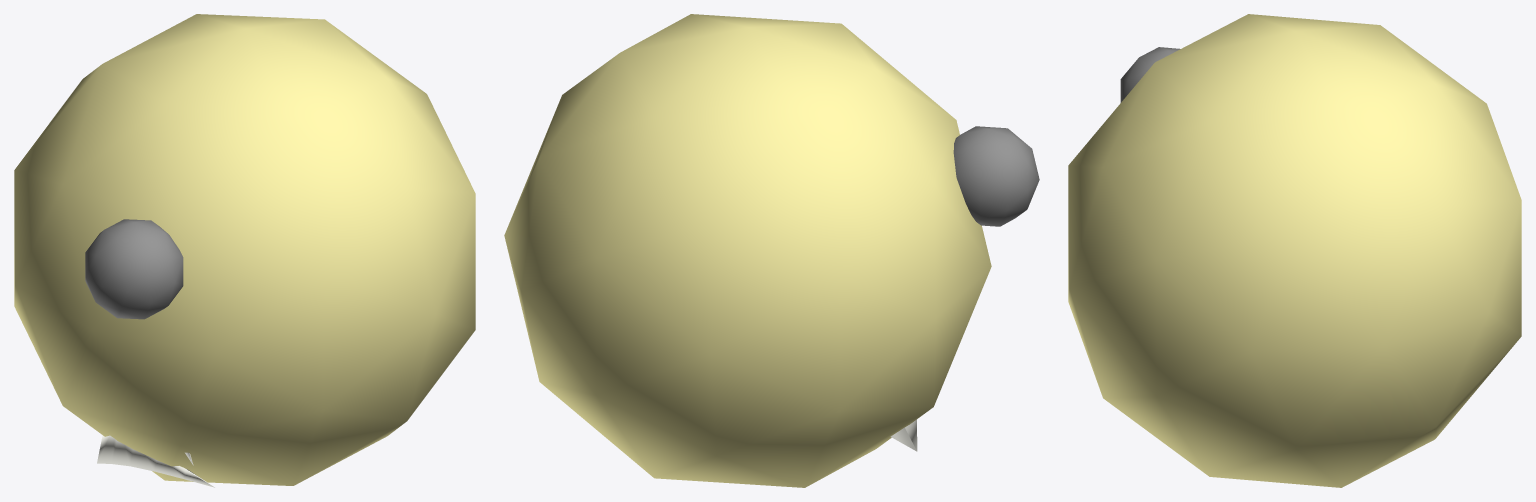
The model's file is blob.glb.
The picture shows the model from 3 angles, left to right: view 1: azimuth 30°, elevation 25°; view 2: azimuth 150°, elevation 25°; view 3: azimuth 270°, elevation 25°; orthographic projection.
Visible parts, largest first — view 1: RGBA(1.000, 0.929, 0.400, 1.000):ShapeMaterial (Instance), position; view 2: RGBA(1.000, 0.929, 0.400, 1.000):ShapeMaterial (Instance), position; view 3: RGBA(1.000, 0.929, 0.400, 1.000):ShapeMaterial (Instance), position.
Boxes of the visible parts, x1,y1,x2,y2 form: RGBA(1.000, 0.929, 0.400, 1.000):ShapeMaterial (Instance): [14, 14, 475, 485]; position: [85, 219, 214, 487]; RGBA(1.000, 0.929, 0.400, 1.000):ShapeMaterial (Instance): [504, 14, 991, 487]; position: [890, 126, 1039, 451]; RGBA(1.000, 0.929, 0.400, 1.000):ShapeMaterial (Instance): [1068, 14, 1521, 487]; position: [1120, 47, 1180, 102].
Size of what is drawn, in the model's own units: 0.429 by 0.4255 by 0.3982.
